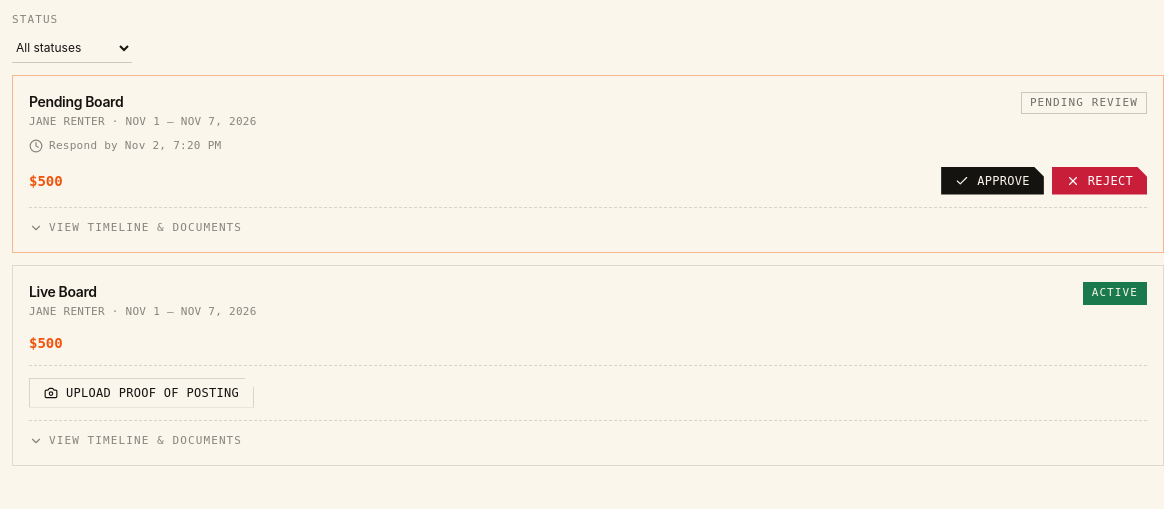
Scenario: BookingInboxPanel › offers proof-of-posting upload only for confirmed/active bookings
The width and height of the screenshot is (1164, 509).
Click the button "Upload proof of posting".
click(142, 392)  # box [29,378,254,408]
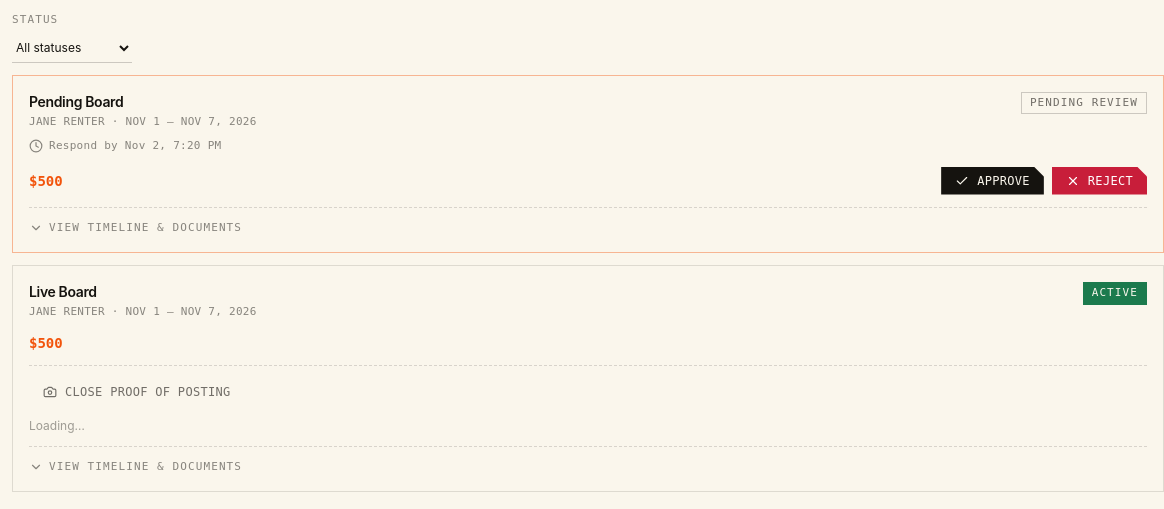
Now the button "Close proof of posting" is expanded, box [29,378,244,406]
